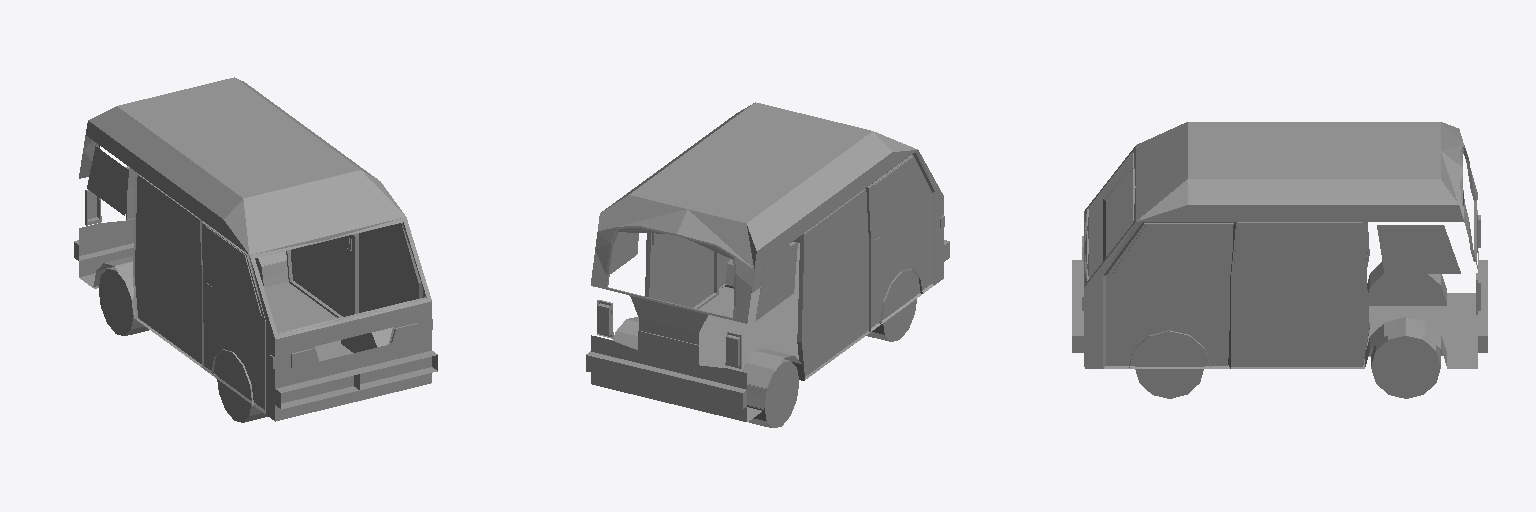
File: ApoloFix.obj
3 renders of one model, left to right at view 1: azimuth 30°, elevation 25°; view 2: azimuth 150°, elevation 25°; view 3: azimuth 270°, elevation 25°, orthographic.
Parts seen in each view (by area): view 1: Apolo_Cube; view 2: Apolo_Cube; view 3: Apolo_Cube.
Boxes of the visible parts, box(x1,y1,x2,y2) form: Apolo_Cube: box(74, 77, 437, 422); Apolo_Cube: box(586, 102, 949, 427); Apolo_Cube: box(1072, 122, 1487, 398).
Size of the model in its own units: 2.75 by 3.48 by 6.2.